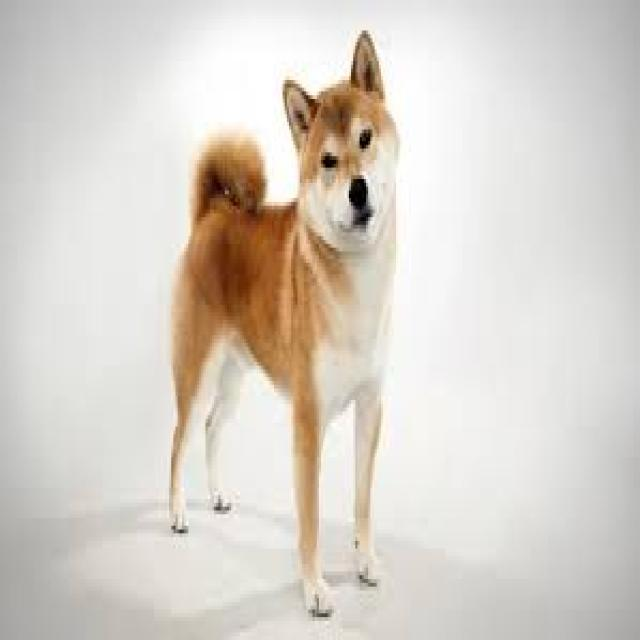dog: (149, 16, 443, 634)
